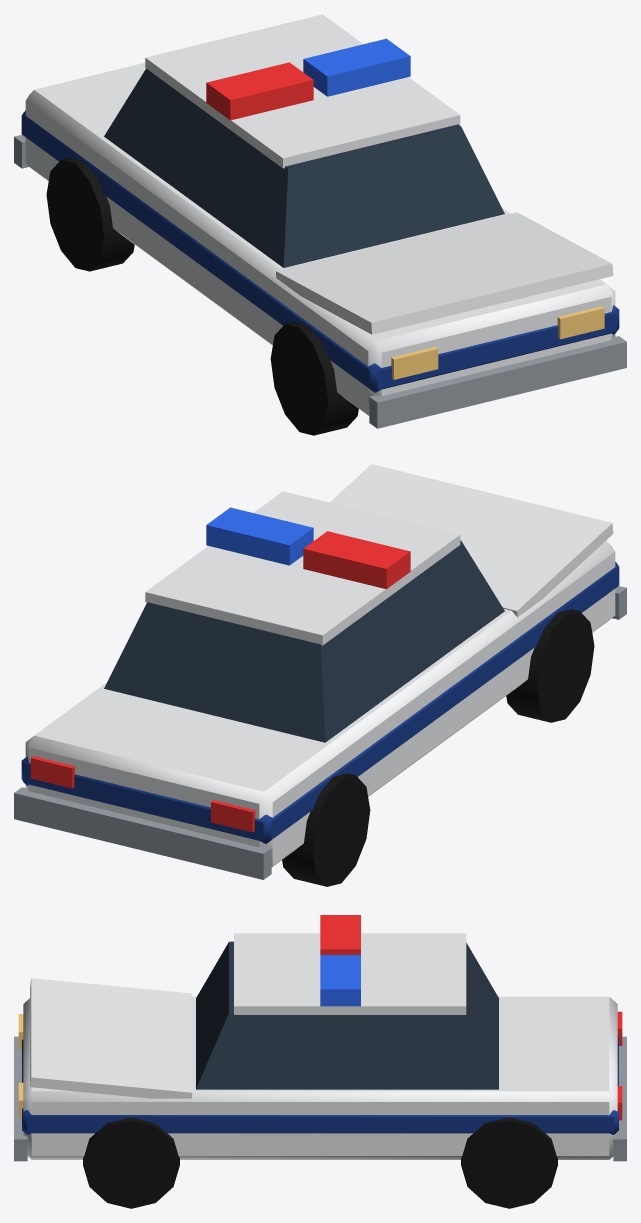
File: patrol_car.fbx
3 renders of one model, top to bottom at view 1: azimuth 30°, elevation 25°; view 2: azimuth 150°, elevation 25°; view 3: azimuth 270°, elevation 25°, orthographic. The views are drawn at different scales.
Visible parts, largest first — view 1: patrol_car; view 2: patrol_car; view 3: patrol_car.
Part boxes in pixels (x1,y1,x2,y2): patrol_car: (14, 14, 626, 435); patrol_car: (14, 464, 626, 886); patrol_car: (14, 915, 626, 1208).
Bounding box in the file's own units: 1.92 × 1.65 × 4.54.
